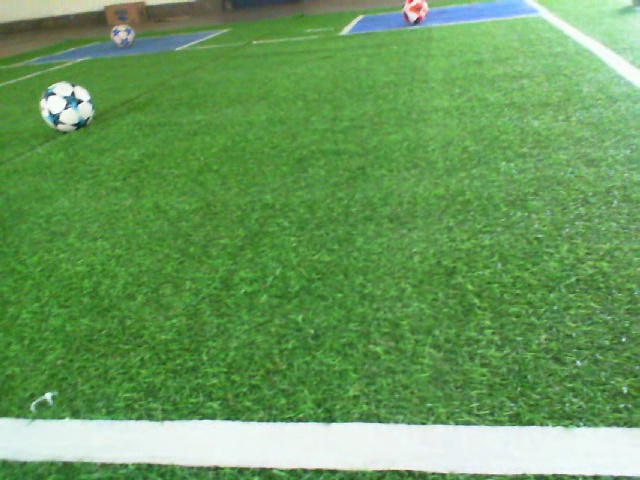ball: (38, 79, 95, 134), (108, 20, 136, 49), (401, 1, 431, 26)
